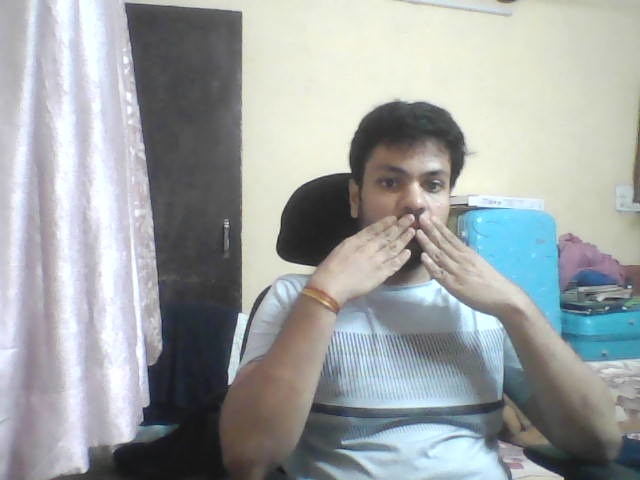Thanks: (304, 203, 526, 328)
